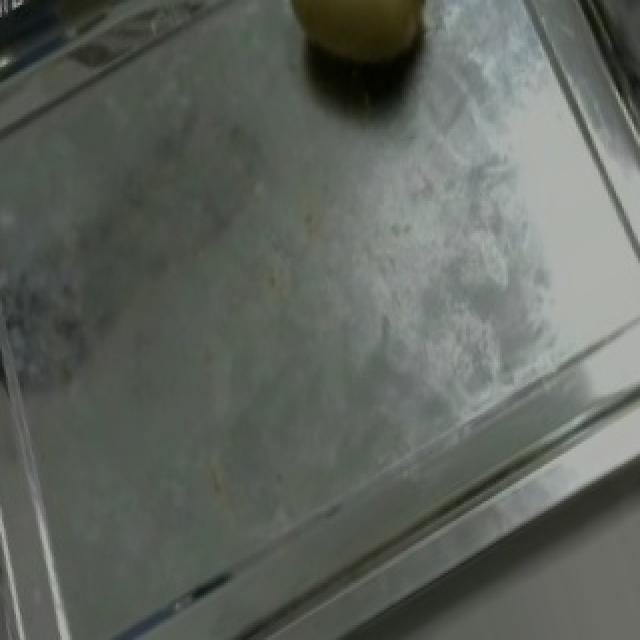Fruit: (250, 0, 470, 134)
